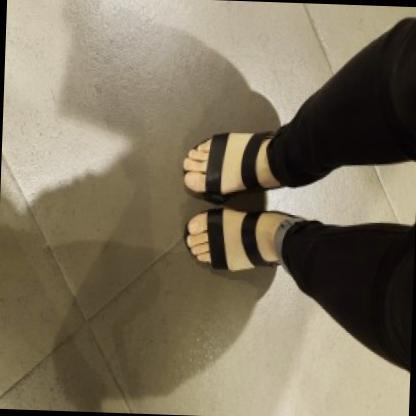no_safety-shoe: (176, 199, 317, 274), (176, 116, 297, 195)
